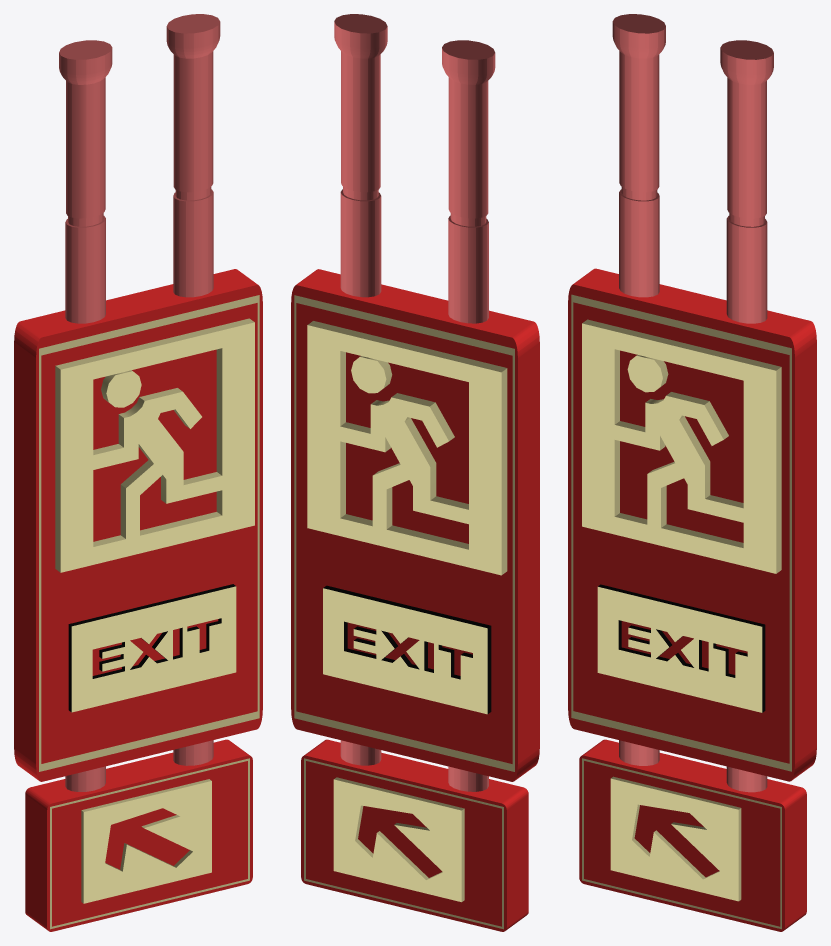
File: EmergencyExitSign_FBX_v2.fbx
3 views of the same model, side by side, from view 1: azimuth 30°, elevation 25°; view 2: azimuth 150°, elevation 25°; view 3: azimuth 330°, elevation 25° (orthographic).
Visible parts, largest first — view 1: ExitSign001; view 2: ExitSign001; view 3: ExitSign001.
Part boxes in pixels (x1,y1,x2,y2): ExitSign001: (14,14,262,931); ExitSign001: (291,14,539,931); ExitSign001: (568,14,816,931).
Size of the model in its own units: 0.6196 by 2.25 by 0.1571.
